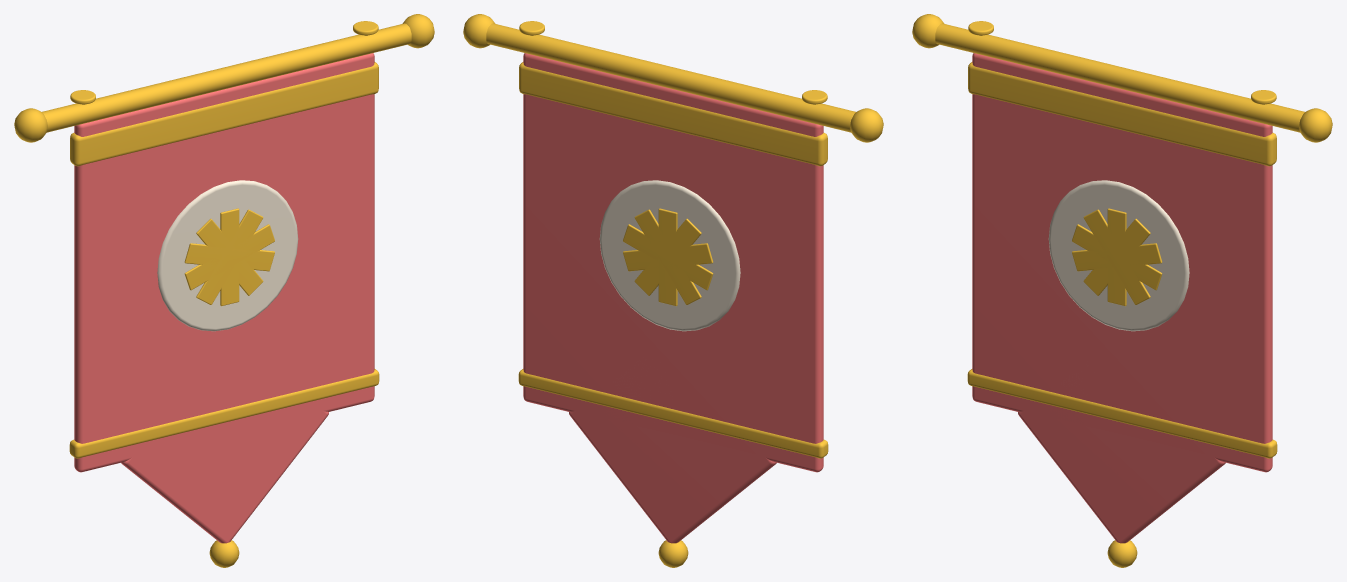
The model's file is BannerCoral.fbx.
3 views of the same model, side by side, from view 1: azimuth 30°, elevation 25°; view 2: azimuth 150°, elevation 25°; view 3: azimuth 330°, elevation 25° (orthographic).
Parts seen in each view (by area): view 1: BannerCoral mesh; view 2: BannerCoral mesh; view 3: BannerCoral mesh.
Part boxes in pixels (box(x1,y1,x2,y2)): BannerCoral mesh: box(14, 14, 434, 567); BannerCoral mesh: box(463, 14, 883, 567); BannerCoral mesh: box(912, 14, 1332, 567).
Bounding box in the file's own units: 1.12 × 1.3 × 0.08.
